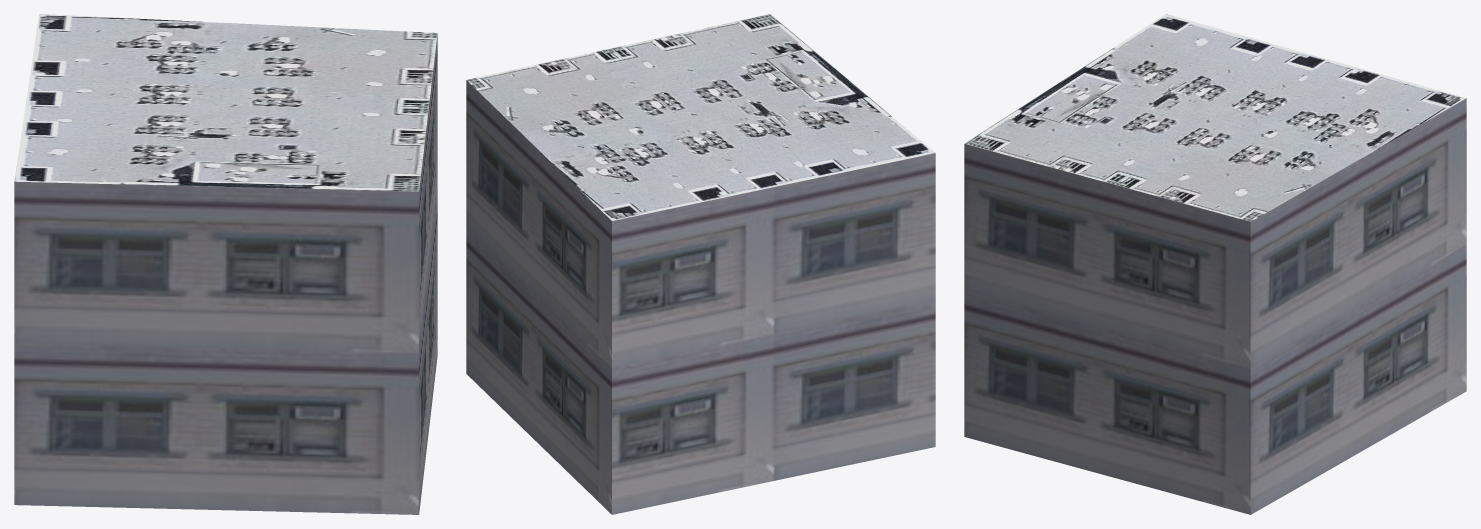
File: ResTex__4355.fbx
3 renders of one model, left to right at view 1: azimuth 30°, elevation 25°; view 2: azimuth 150°, elevation 25°; view 3: azimuth 270°, elevation 25°, orthographic. The views are drawn at different scales.
Visible parts, largest first — view 1: CityEngineMaterial_1_m, CityEngineMaterial_m; view 2: CityEngineMaterial_1_m, CityEngineMaterial_m; view 3: CityEngineMaterial_1_m, CityEngineMaterial_m.
Part boxes in pixels (x1,y1,x2,y2): CityEngineMaterial_1_m: (14,34,437,514); CityEngineMaterial_m: (14,14,437,191); CityEngineMaterial_1_m: (466,80,935,514); CityEngineMaterial_m: (467,14,935,220); CityEngineMaterial_1_m: (964,98,1466,514); CityEngineMaterial_m: (964,14,1466,221).
Size of the model in its own units: 9.12 by 6 by 9.32.
2 materials, 2 textured.
